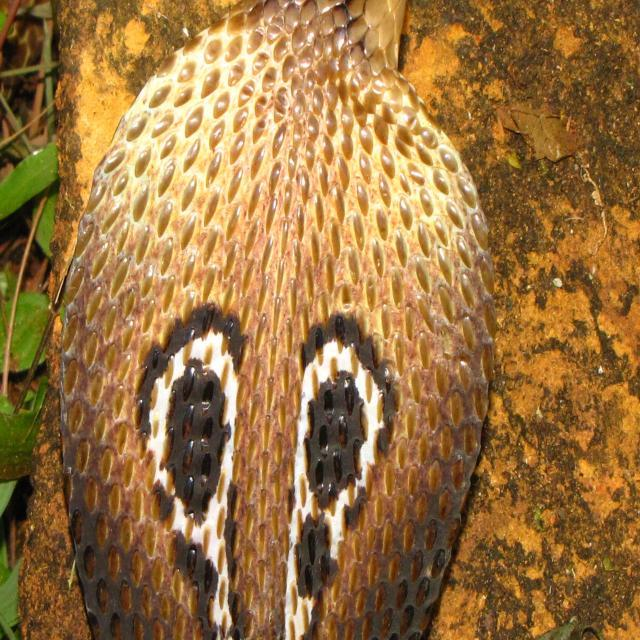Snake: (55, 0, 498, 639)
